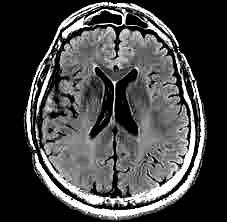Normal_Brain: (5, 6, 227, 222)
